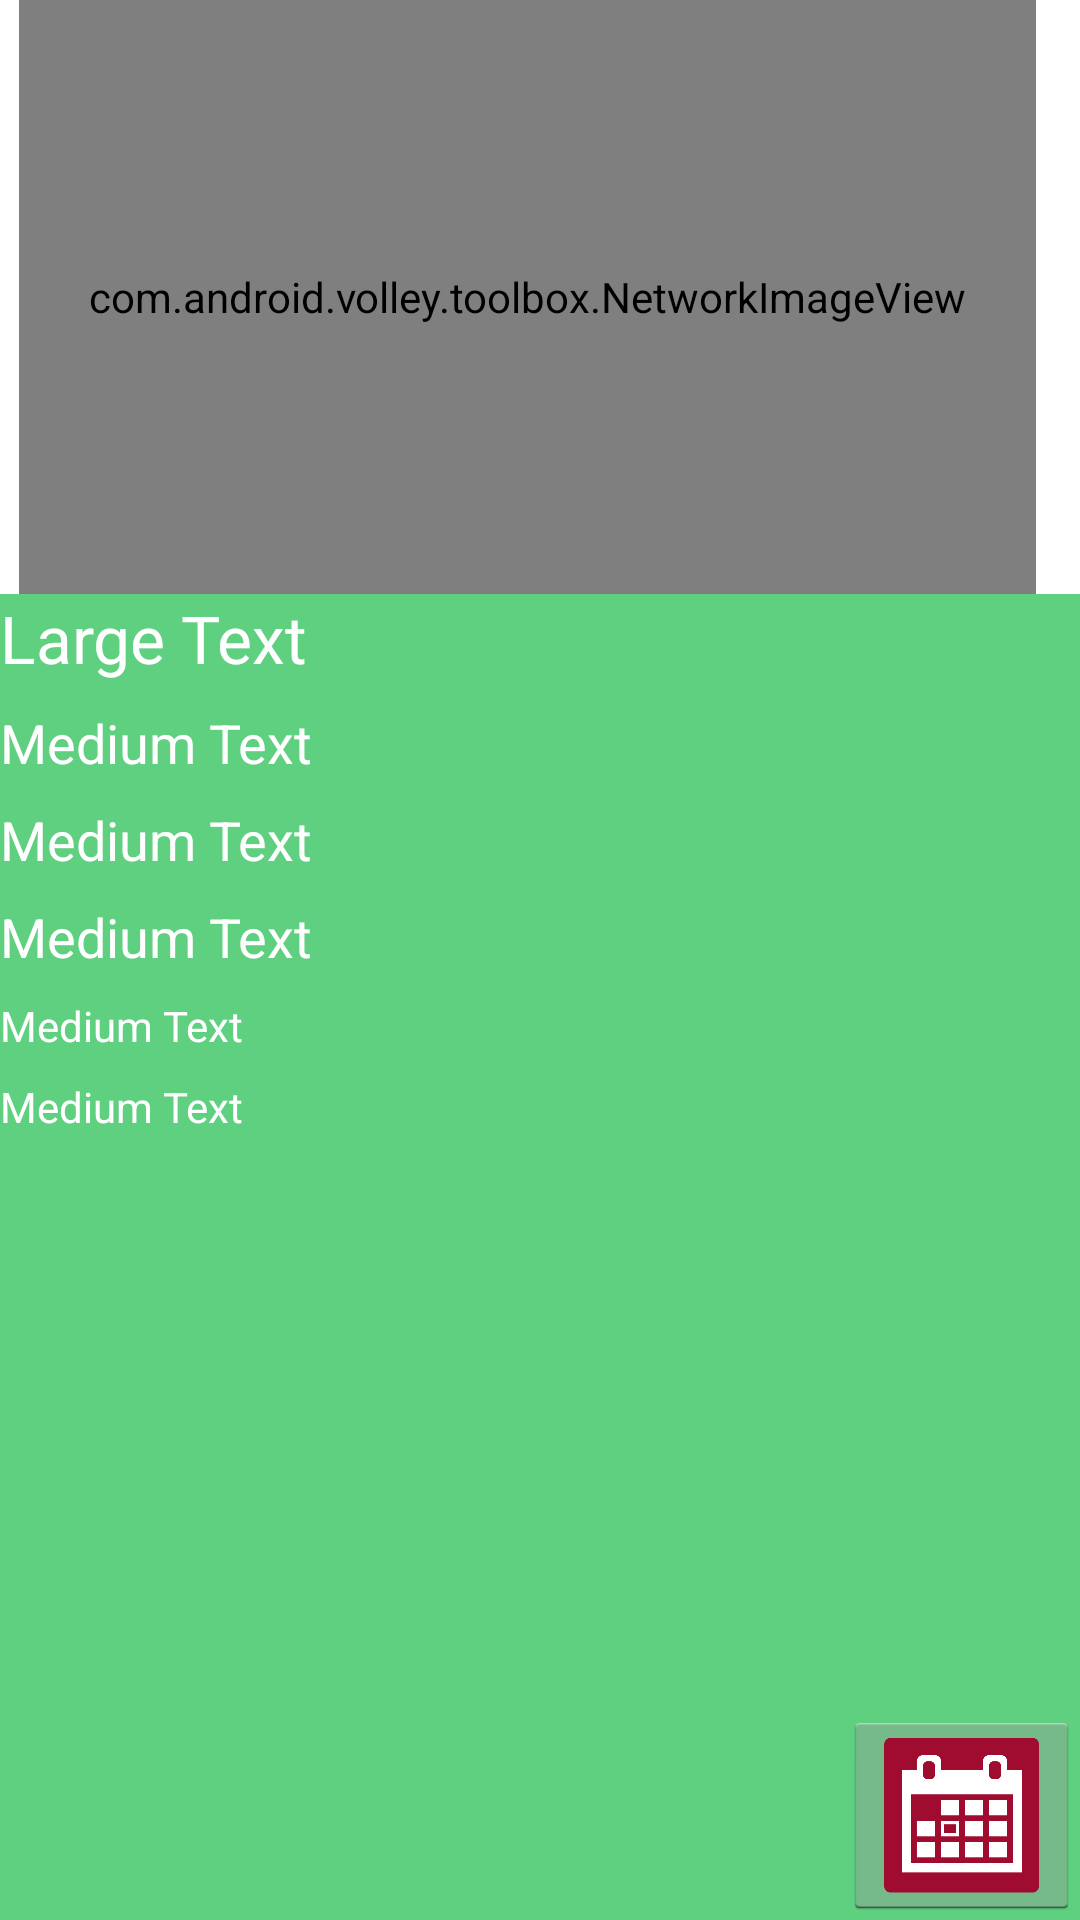

Where icons sit on this 1080*1920 app screen, as [x1=x1, y1=y1, x2=x2, y2=y2]:
appointment: [x1=855, y1=1723, x2=1068, y2=1909]
